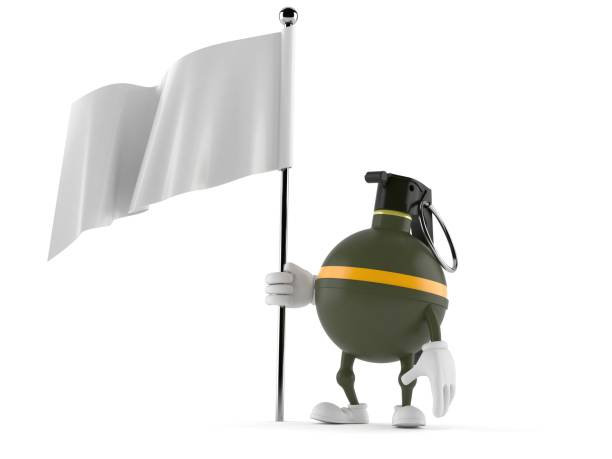e1: (316, 167, 452, 361)
